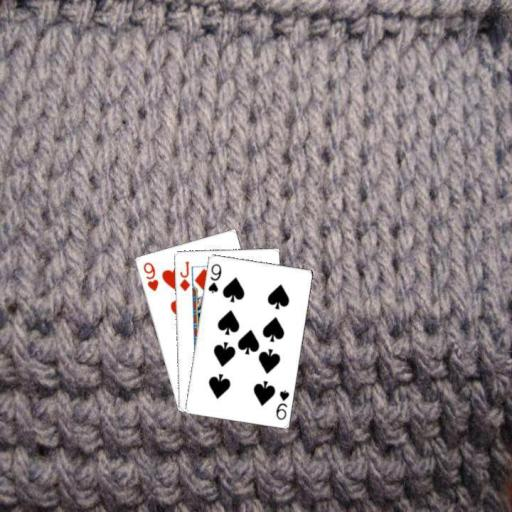card-corner: (139, 259, 160, 292), (204, 260, 222, 294), (272, 387, 290, 421), (176, 258, 192, 292)
